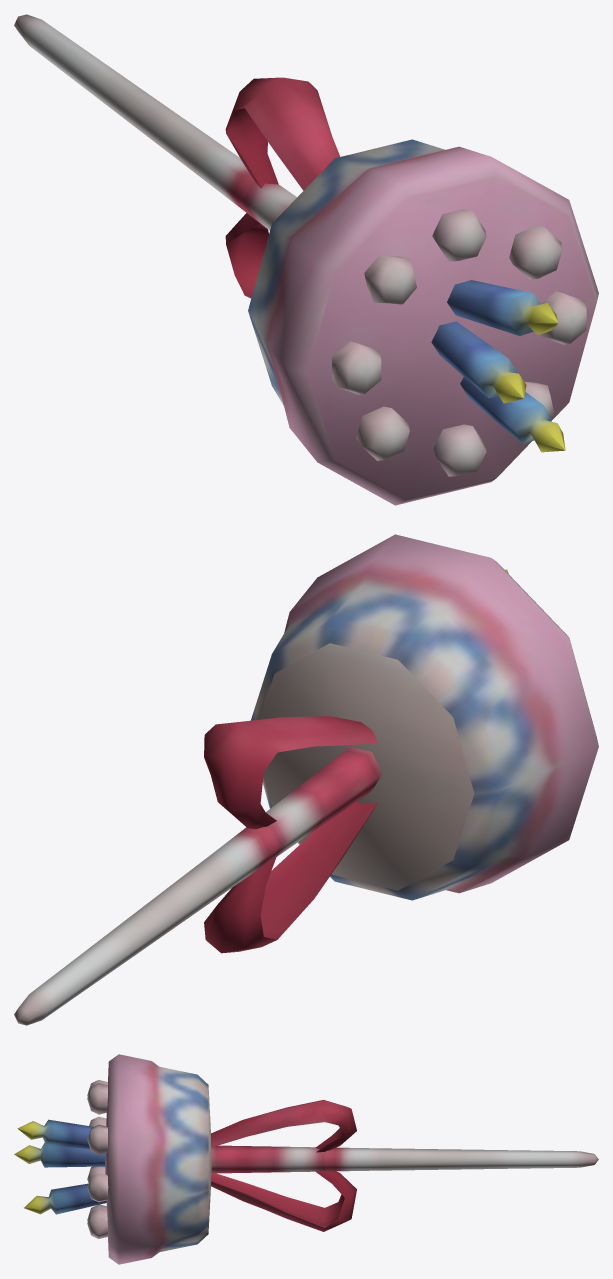
The model's file is bdWeapon.glb.
3 renders of one model, top to bottom at view 1: azimuth 30°, elevation 25°; view 2: azimuth 150°, elevation 25°; view 3: azimuth 270°, elevation 25°, orthographic. The views are drawn at different scales.
Parts seen in each view (by area): view 1: Penguin_bdWeapon_tri; view 2: Penguin_bdWeapon_tri; view 3: Penguin_bdWeapon_tri.
Boxes of the visible parts, x1=… form: Penguin_bdWeapon_tri: x1=14, y1=14, x2=598, y2=505; Penguin_bdWeapon_tri: x1=14, y1=534, x2=598, y2=1025; Penguin_bdWeapon_tri: x1=14, y1=1054, x2=598, y2=1264.
Bounding box in the file's own units: 0.3526 × 0.3521 × 1.01.
Materials: 1 (1 with a texture image).
